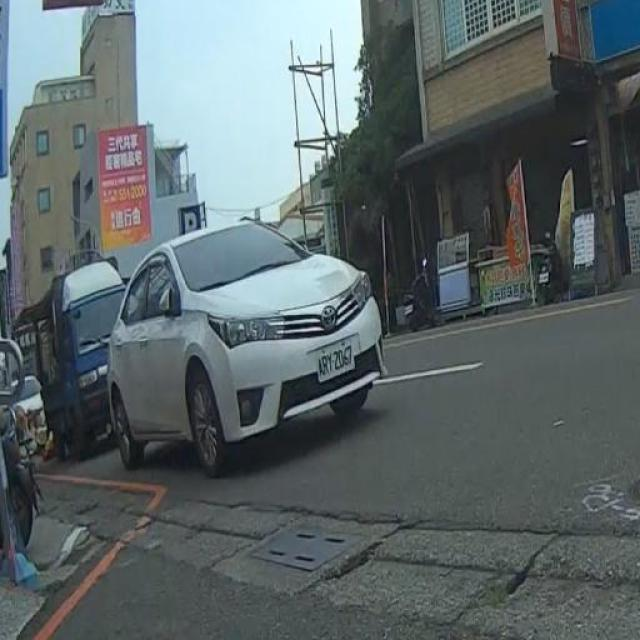illegalparking: (19, 220, 382, 475)
